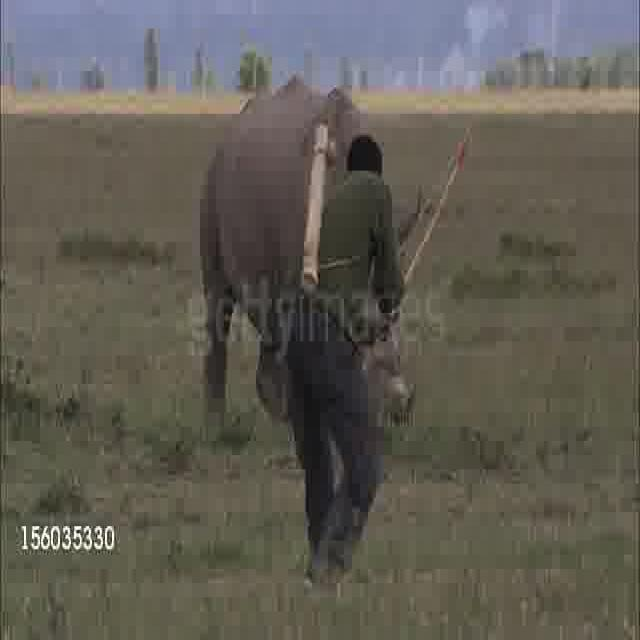poacher: (251, 207, 405, 602)
weapon: (209, 218, 296, 310)
